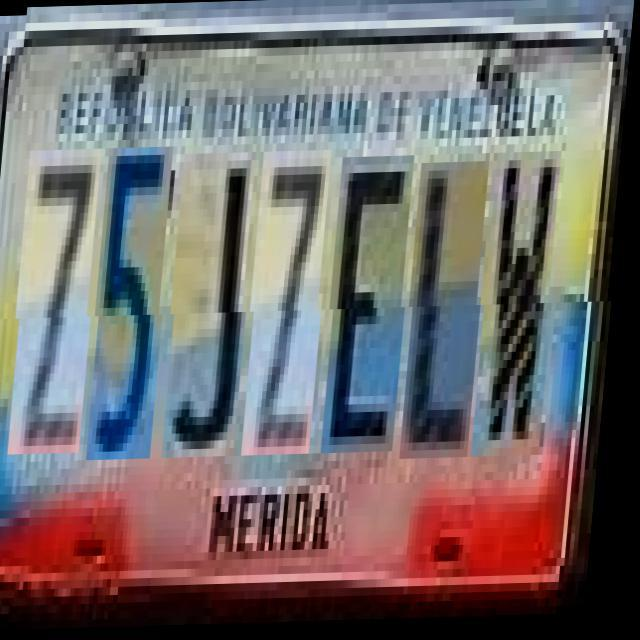5: (95, 148, 180, 461)
E: (329, 157, 422, 456)
J: (170, 153, 263, 460)
L: (408, 164, 496, 462)
W: (479, 154, 568, 460)
Z: (15, 149, 109, 455), (250, 152, 338, 458)
